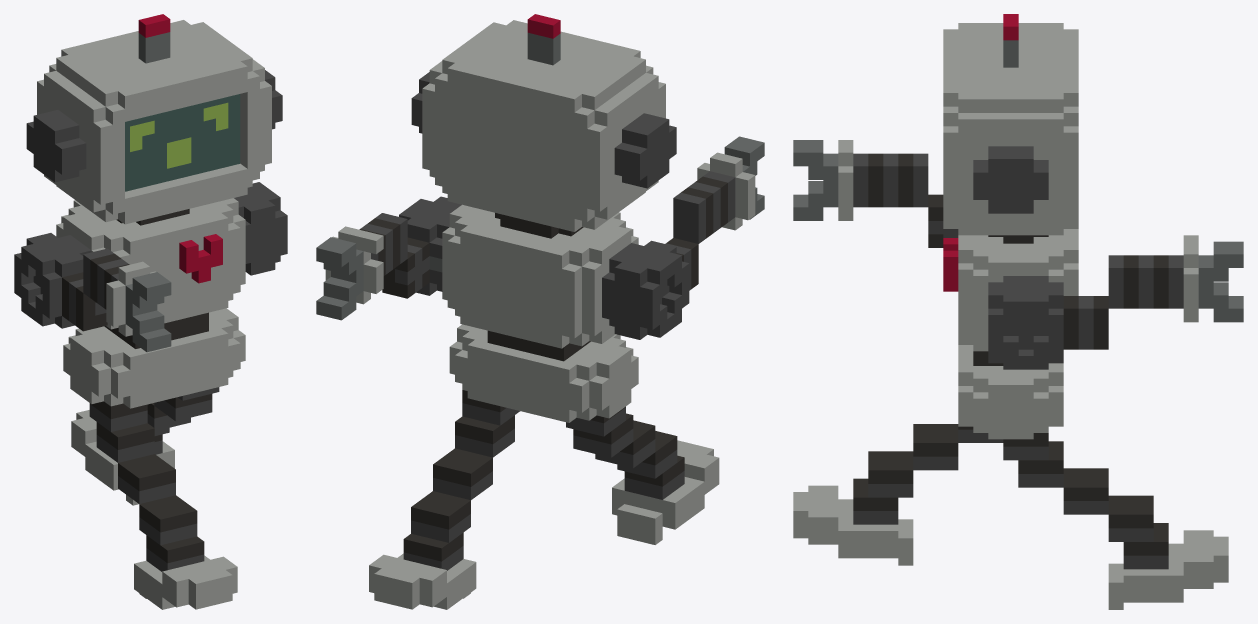
The model's file is player_main_jump-start_3.fbx.
3 views of the same model, side by side, from view 1: azimuth 30°, elevation 25°; view 2: azimuth 150°, elevation 25°; view 3: azimuth 270°, elevation 25° (orthographic). The views are drawn at different scales.
Parts seen in each view (by area): view 1: model_3; view 2: model_3; view 3: model_3.
Part boxes in pixels (box(x1,y1,x2,y2)): model_3: box(14, 14, 287, 609); model_3: box(316, 14, 764, 609); model_3: box(793, 14, 1243, 609).
Size of the model in its own units: 200 by 300 by 410.
